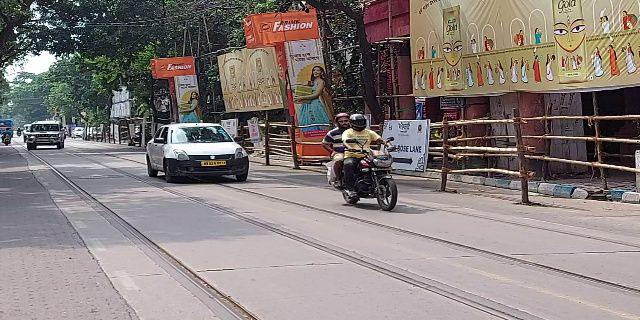Car: (141, 120, 251, 186), (23, 120, 66, 152)
Motorbike: (319, 110, 401, 214)
